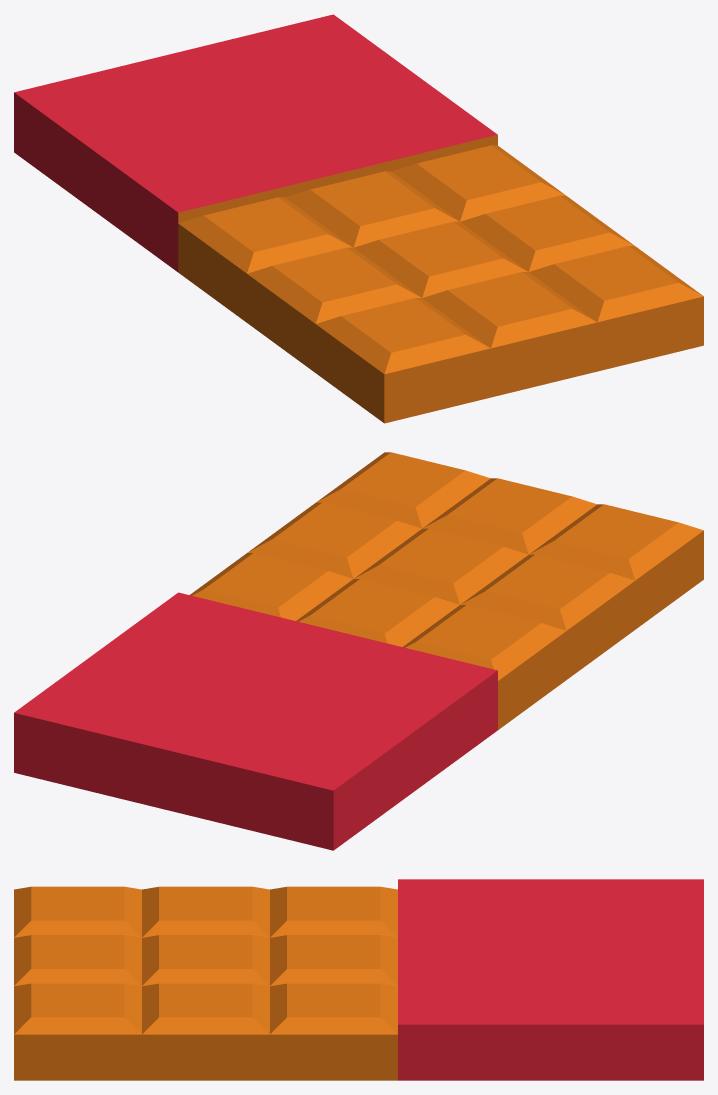
File: chokolat.fbx
The picture shows the model from 3 angles, top to bottom: view 1: azimuth 30°, elevation 25°; view 2: azimuth 150°, elevation 25°; view 3: azimuth 270°, elevation 25°; orthographic projection. The views are drawn at different scales.
Parts seen in each view (by area): view 1: chocolate; view 2: chocolate; view 3: chocolate.
Part boxes in pixels (left/top/right/bottom): chocolate: left=14, top=14, right=703, bottom=423; chocolate: left=14, top=452, right=703, bottom=850; chocolate: left=14, top=879, right=703, bottom=1080.
Size of the model in its own units: 125 by 22.44 by 251.
